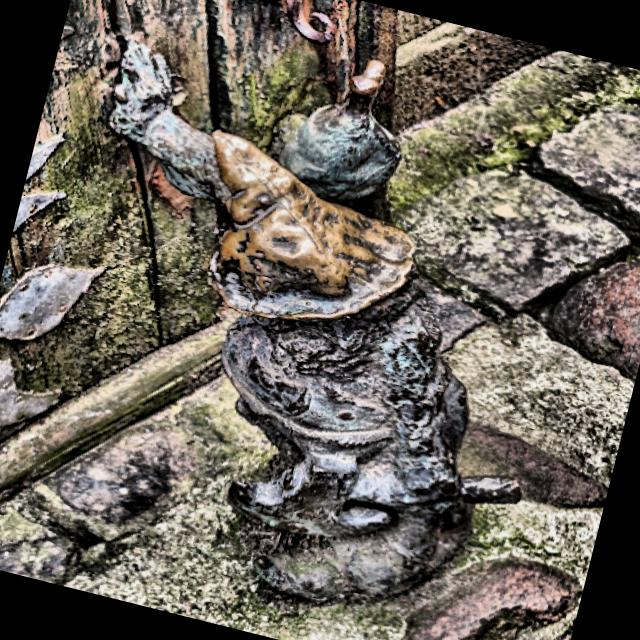Rzeznik: (111, 41, 520, 600)
